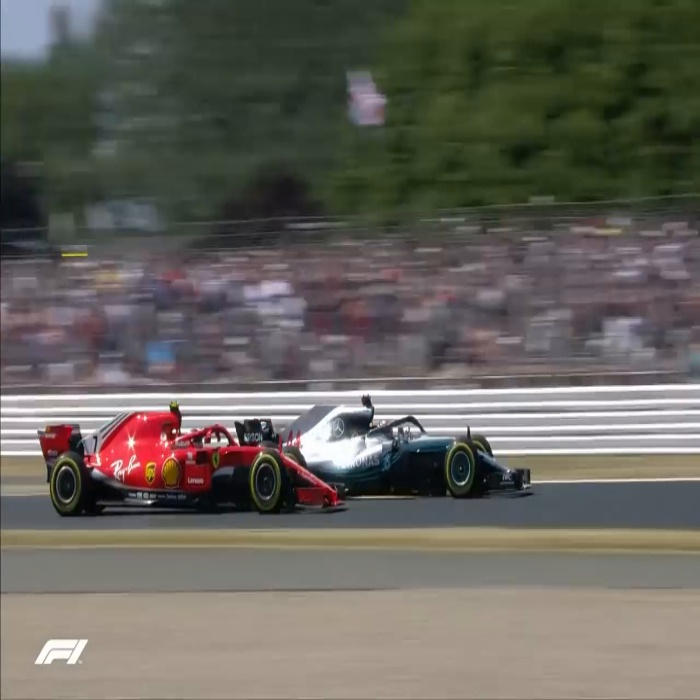f1_car: (27, 393, 345, 520), (245, 391, 558, 519)
